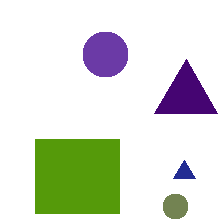circle: (83, 32, 127, 76), (163, 194, 187, 218)
rectangle: (35, 139, 119, 213)
triangle: (154, 59, 217, 113), (173, 160, 195, 178)
